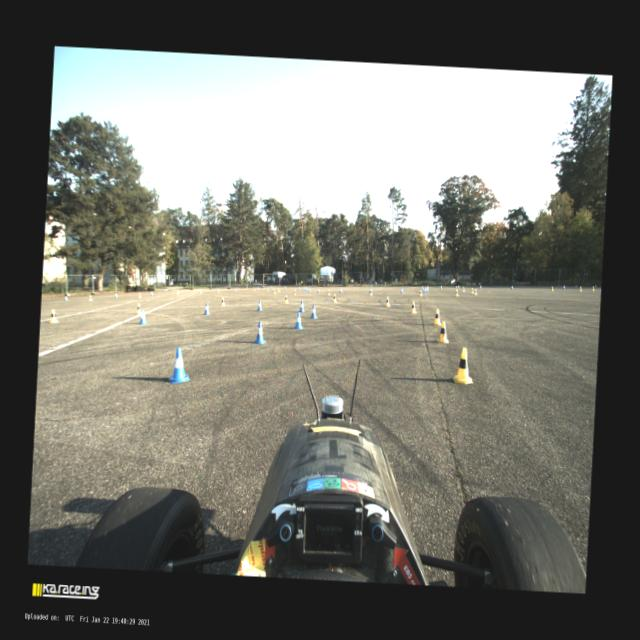blue_cone: (168, 346, 192, 384), (254, 322, 266, 344), (294, 314, 304, 329), (139, 310, 149, 324), (310, 304, 318, 318), (298, 300, 306, 312), (256, 300, 263, 312), (203, 303, 210, 315), (150, 291, 154, 296), (562, 285, 566, 289), (65, 296, 68, 301), (317, 288, 320, 293), (400, 288, 403, 293), (479, 285, 482, 290), (115, 294, 118, 298), (424, 286, 426, 292), (424, 288, 426, 294), (575, 284, 577, 290), (306, 287, 308, 292), (308, 288, 310, 293), (340, 288, 342, 293), (422, 286, 424, 291), (216, 288, 218, 292), (199, 289, 201, 293), (238, 287, 240, 291), (256, 286, 258, 290), (270, 286, 272, 290), (284, 286, 286, 290), (298, 286, 300, 290), (303, 286, 305, 290), (304, 287, 306, 291), (369, 288, 371, 292), (427, 285, 429, 289), (426, 288, 428, 292), (440, 286, 442, 290), (458, 285, 460, 289), (512, 286, 514, 290), (594, 284, 596, 288)
yellow_cone: (452, 347, 474, 384), (438, 321, 450, 343), (50, 309, 60, 323), (435, 308, 442, 324), (410, 302, 418, 314), (283, 294, 290, 304), (136, 303, 142, 314), (386, 296, 392, 306), (332, 293, 338, 303), (221, 298, 227, 306), (474, 288, 477, 296), (89, 295, 93, 301), (462, 287, 466, 292), (138, 293, 142, 298), (592, 286, 595, 292), (551, 286, 554, 292), (471, 288, 474, 294), (370, 288, 372, 296), (273, 289, 276, 294), (176, 290, 179, 295), (456, 290, 458, 297), (420, 290, 422, 297), (580, 286, 582, 292), (328, 290, 330, 296), (294, 290, 296, 296), (253, 286, 256, 290), (456, 286, 458, 291), (278, 287, 280, 292), (235, 287, 237, 292), (200, 289, 202, 294), (277, 288, 279, 292), (267, 287, 269, 291), (218, 288, 220, 292)
